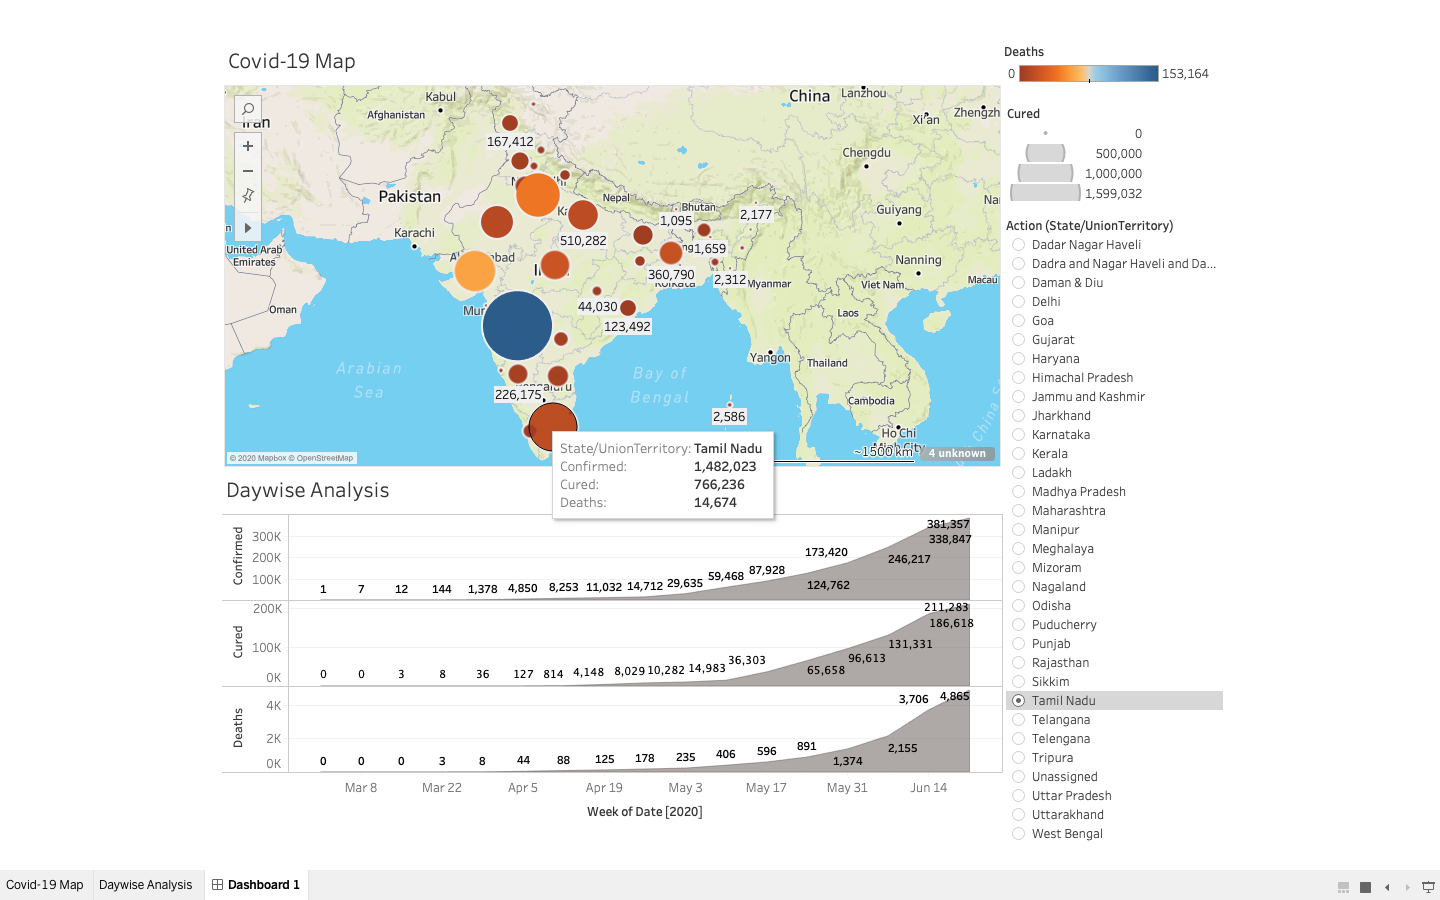

The dashboard page shown, as its layout file describes it:
{"tool":"tableau","page":{"name":"Dashboard 1","canvas":[1000,800],"ordinal":0},"visuals":[{"type":"worksheet","title":"Sheet 1","mark":"Automatic","box":[4,7,777,425]},{"type":"worksheet","title":"Sheet 1","mark":"Automatic","param":"[federated.14db7xv1epygqz19npfeq1ml0pcw].[sum:Deaths:qk]","box":[784,8,210,51]},{"type":"worksheet","title":"Sheet 1","mark":"Automatic","param":"[federated.14db7xv1epygqz19npfeq1ml0pcw].[sum:Cured:qk]","box":[787,70,204,96]},{"type":"worksheet","title":"Sheet 2","mark":"Area","rows":["Confirmed","Cured","Deaths"],"cols":["Date"],"box":[2,436,781,357]}]}

Visuals, with their boxes on the page's 1000x800 design canvas (x1, y1, x2, y2). These are canvas units, not pixel positions in the 1440x900 screenshot, which may show the page scaled, cropped or inside an application window:
"Sheet 1" worksheet: <box>4,7,781,432</box>
"Sheet 1" worksheet: <box>784,8,994,59</box>
"Sheet 1" worksheet: <box>787,70,991,166</box>
"Sheet 2" worksheet (Area marks): <box>2,436,783,793</box>
